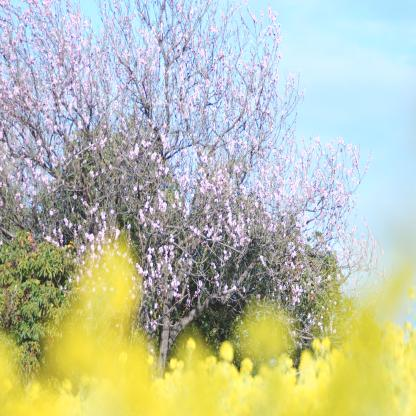Momo: (0, 1, 395, 332)
